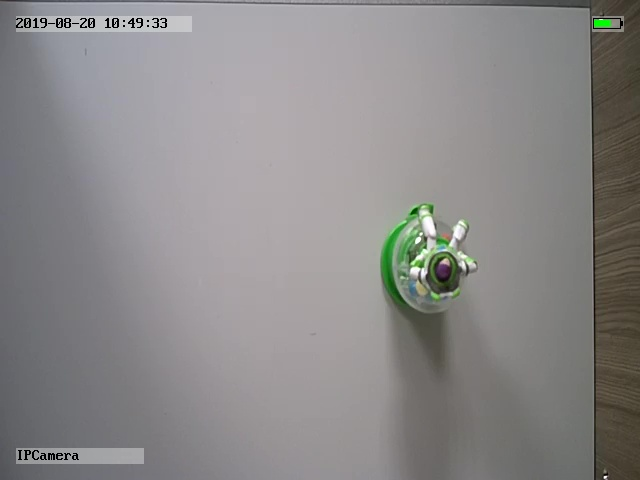buzz: (378, 202, 480, 320)
